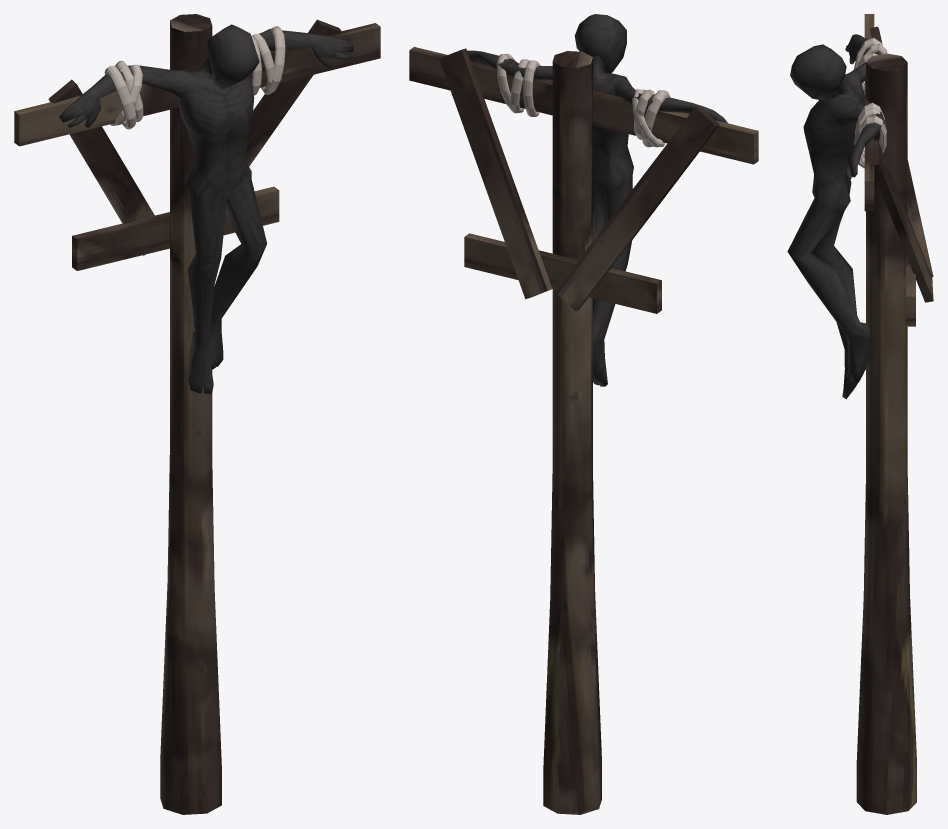
Rendered from Crusifix with Corpse.fbx.
3 renders of one model, left to right at view 1: azimuth 30°, elevation 25°; view 2: azimuth 150°, elevation 25°; view 3: azimuth 270°, elevation 25°, orthographic. The views are drawn at different scales.
Parts seen in each view (by area): view 1: Cylinder.012, Ghoul Body.007, Cube.002, Cube.003, Cube.004, Ghoul Head.007, Torus.003, Torus; view 2: Cylinder.012, Cube.003, Ghoul Body.007, Cube.002, Cube.004, Ghoul Head.007; view 3: Cylinder.012, Ghoul Body.007, Cube.003, Ghoul Head.007, Cube.002, Cube.004, Torus.
Boxes of the visible parts, bbox=[...] form: Cylinder.012: bbox=[160, 14, 221, 814]; Ghoul Body.007: bbox=[59, 29, 353, 394]; Cube.002: bbox=[14, 23, 380, 146]; Cube.003: bbox=[48, 19, 342, 255]; Cube.004: bbox=[72, 186, 279, 270]; Ghoul Head.007: bbox=[206, 24, 259, 90]; Torus.003: bbox=[104, 65, 135, 129]; Torus: bbox=[261, 26, 285, 94]; Cylinder.012: bbox=[543, 51, 601, 814]; Cube.003: bbox=[439, 48, 719, 311]; Ghoul Body.007: bbox=[467, 50, 727, 386]; Cube.002: bbox=[409, 47, 758, 164]; Cube.004: bbox=[464, 233, 661, 313]; Ghoul Head.007: bbox=[574, 14, 626, 73]; Cylinder.012: bbox=[856, 53, 916, 814]; Ghoul Body.007: bbox=[787, 34, 885, 399]; Cube.003: bbox=[869, 26, 933, 302]; Ghoul Head.007: bbox=[790, 44, 846, 100]; Cube.002: bbox=[864, 14, 874, 211]; Cube.004: bbox=[906, 203, 915, 326]; Torus: bbox=[854, 115, 886, 168].
Bounding box in the file's own units: 948 × 2001 × 350.
